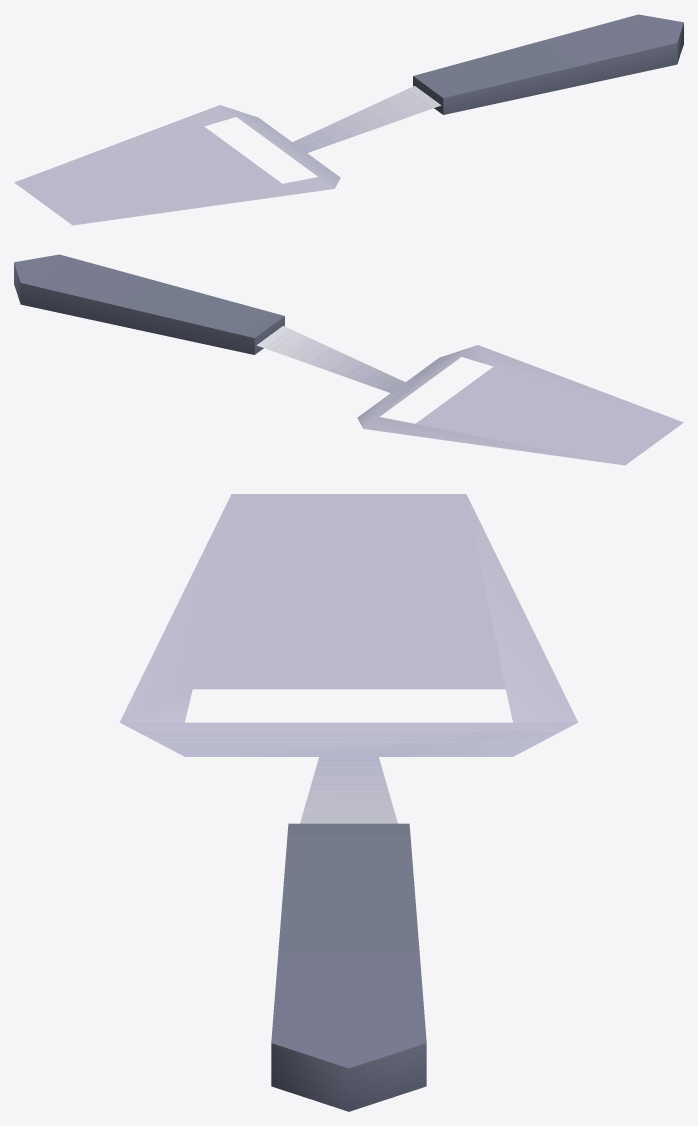
The model's file is cheese-slicer.glb.
3 views of the same model, one above another, from view 1: azimuth 30°, elevation 25°; view 2: azimuth 150°, elevation 25°; view 3: azimuth 270°, elevation 25° (orthographic). The views are drawn at different scales.
Visible parts, largest first — view 1: cheese-slicer; view 2: cheese-slicer; view 3: cheese-slicer.
Boxes of the visible parts, bbox=[...] form: cheese-slicer: bbox=[14, 14, 683, 225]; cheese-slicer: bbox=[14, 254, 683, 465]; cheese-slicer: bbox=[119, 494, 578, 1111].
Bounding box in the file's own units: 0.6184 × 0.0292 × 0.1918.
1 material, 1 textured.
